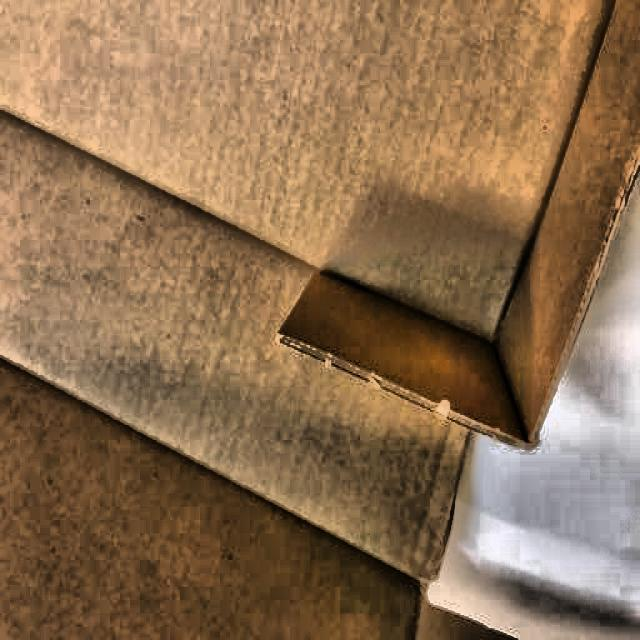cardboard: (0, 0, 631, 633)
